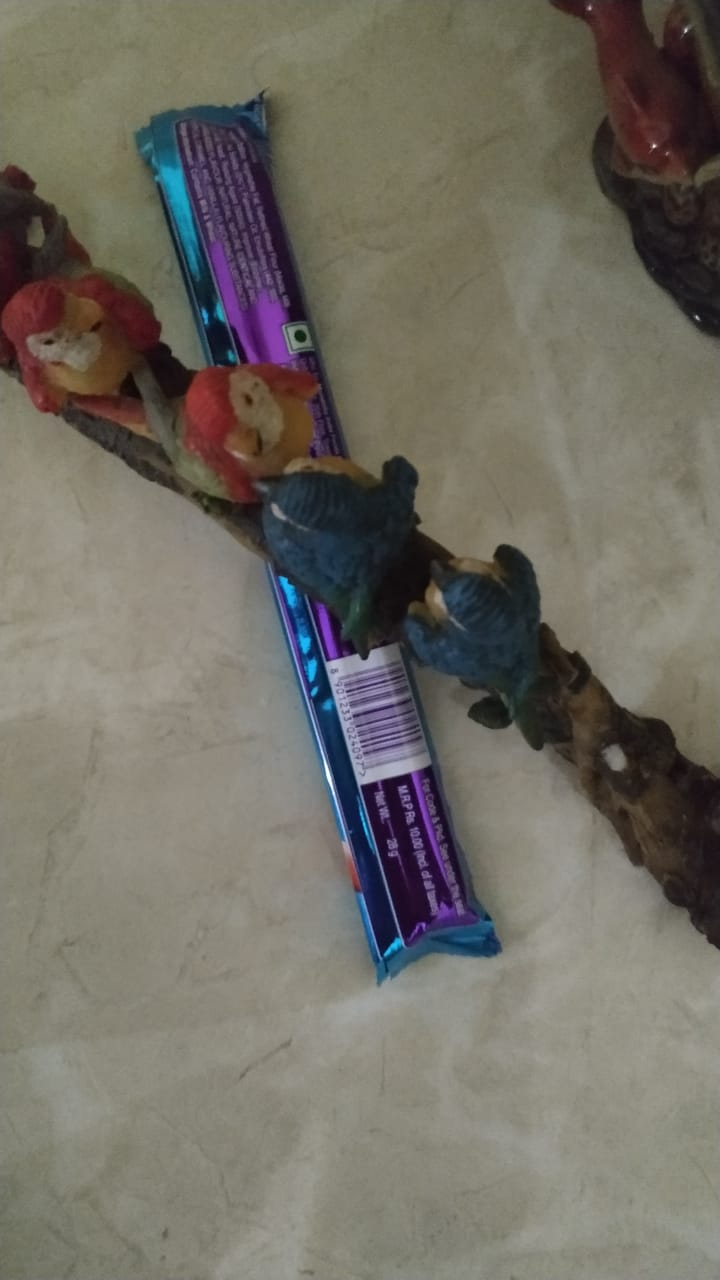perk: (123, 106, 503, 992)
